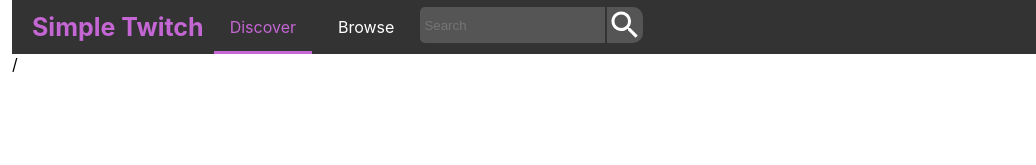
Test: NavBarCont › searches immediately with the search icon
Click the icon with class "IconContainer": (624, 27) left=605, top=7, right=643, bottom=47
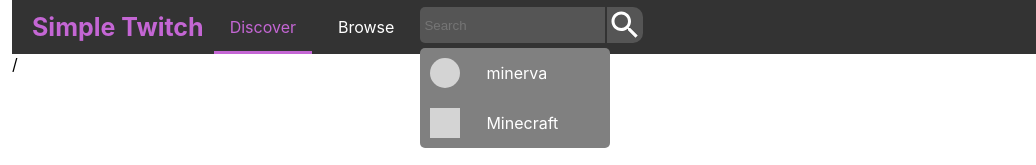
Check: the link "minerva" is shown, box left=486, top=63, right=547, bottom=83
